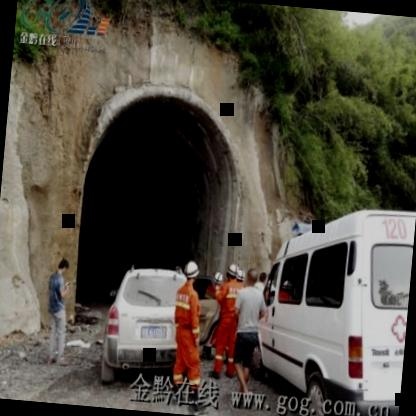head: (242, 266, 261, 290), (56, 257, 71, 277)
helmet: (181, 261, 201, 289), (211, 266, 225, 290), (225, 262, 240, 284)
